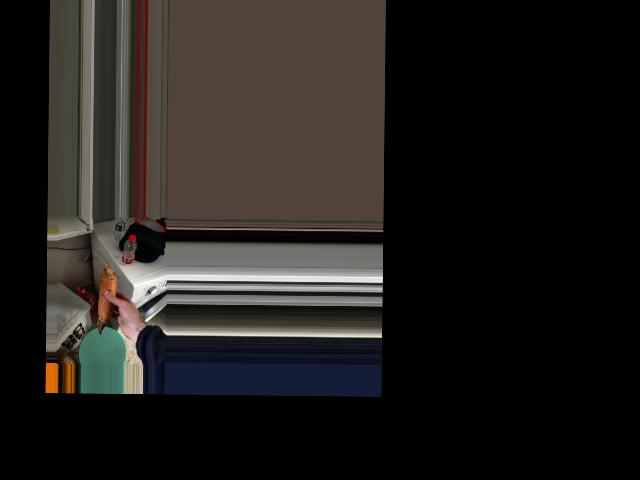sweet_potato: (100, 263, 119, 330)
